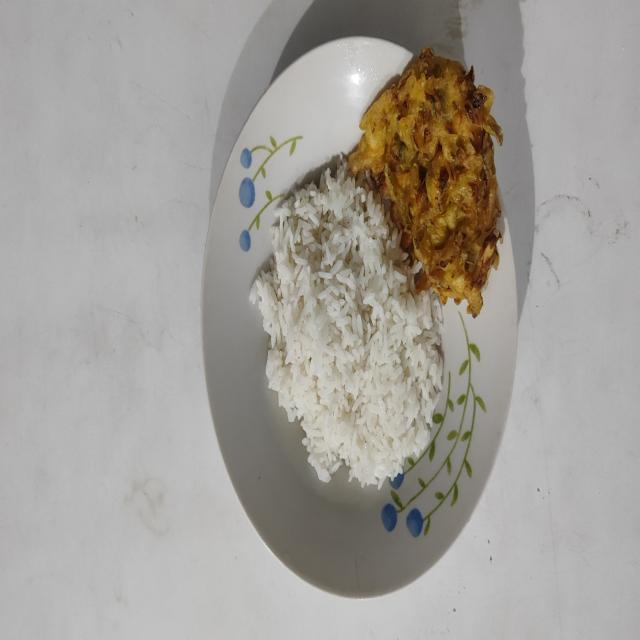nasi_putih: (250, 156, 442, 490)
